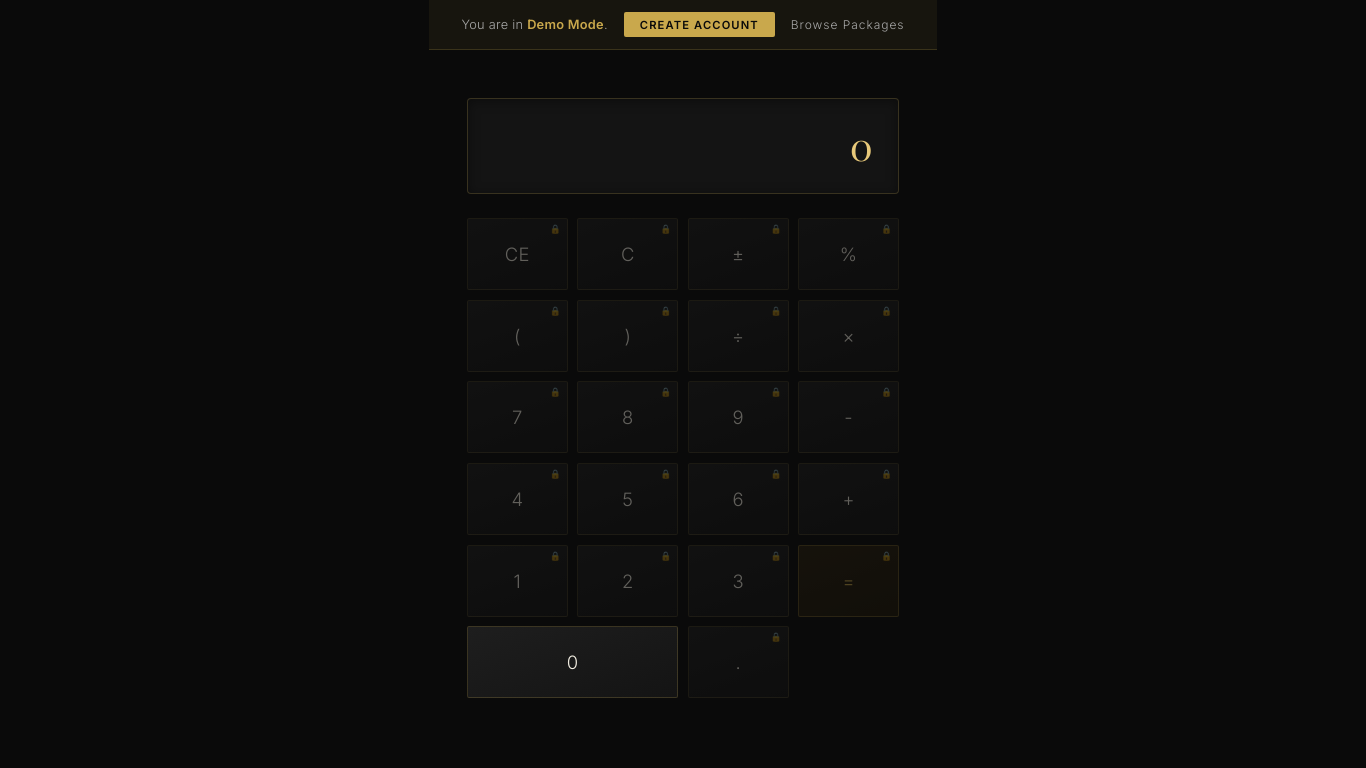
CalculatorPage › pressing a locked button opens the locked button modal
The width and height of the screenshot is (1366, 768).
What coordinates should you click on to do the following:
click the button "5 🔒"
I would click on:
 (628, 499)
Its box is left=577, top=463, right=678, bottom=535.
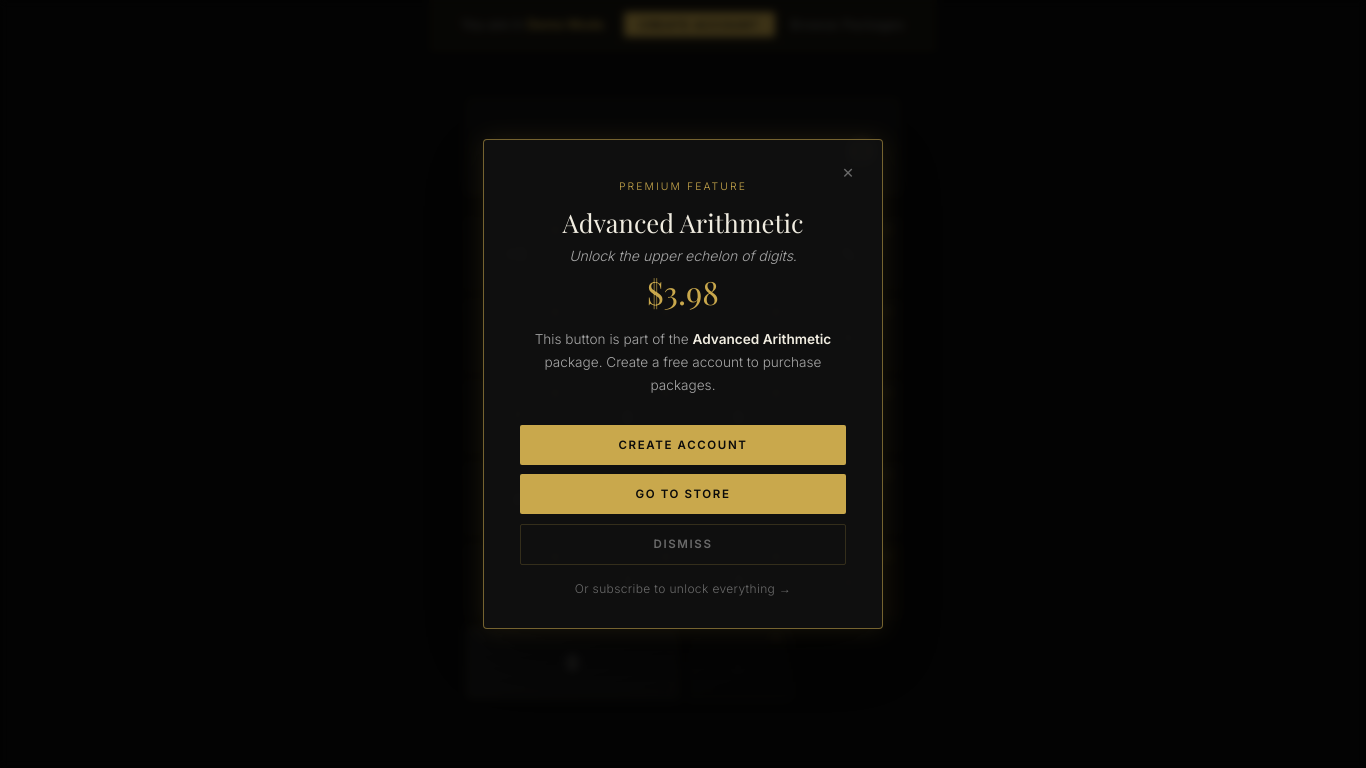
Expected: the text "Premium Feature" is shown, left=619, top=180, right=747, bottom=193
